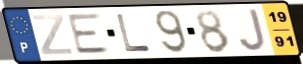8: (195, 8, 232, 54)
9: (152, 9, 190, 55)
E: (66, 11, 113, 56)
J: (237, 7, 268, 53)
L: (115, 13, 153, 53)
Z: (30, 13, 75, 57)
